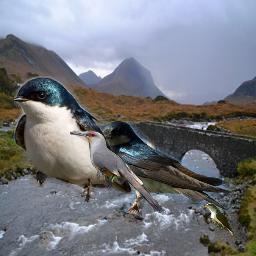Cuckoo: (70, 130, 166, 215), (204, 202, 239, 243)
Swallow: (14, 76, 135, 204), (100, 121, 233, 218)
